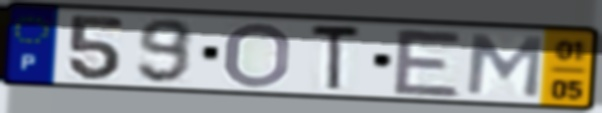5: (66, 11, 128, 83)
9: (133, 16, 197, 86)
E: (390, 25, 467, 100)
M: (462, 32, 546, 101)
O: (220, 20, 294, 90)
T: (308, 21, 364, 94)
